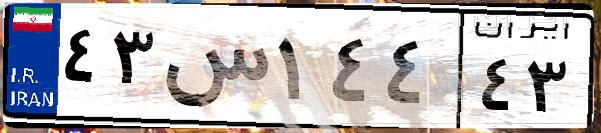1: (270, 28, 330, 110)
3: (525, 38, 570, 115), (110, 28, 158, 98)
4: (385, 28, 445, 110), (330, 28, 385, 110), (57, 26, 110, 100), (475, 38, 525, 113)
س: (158, 20, 270, 120)
